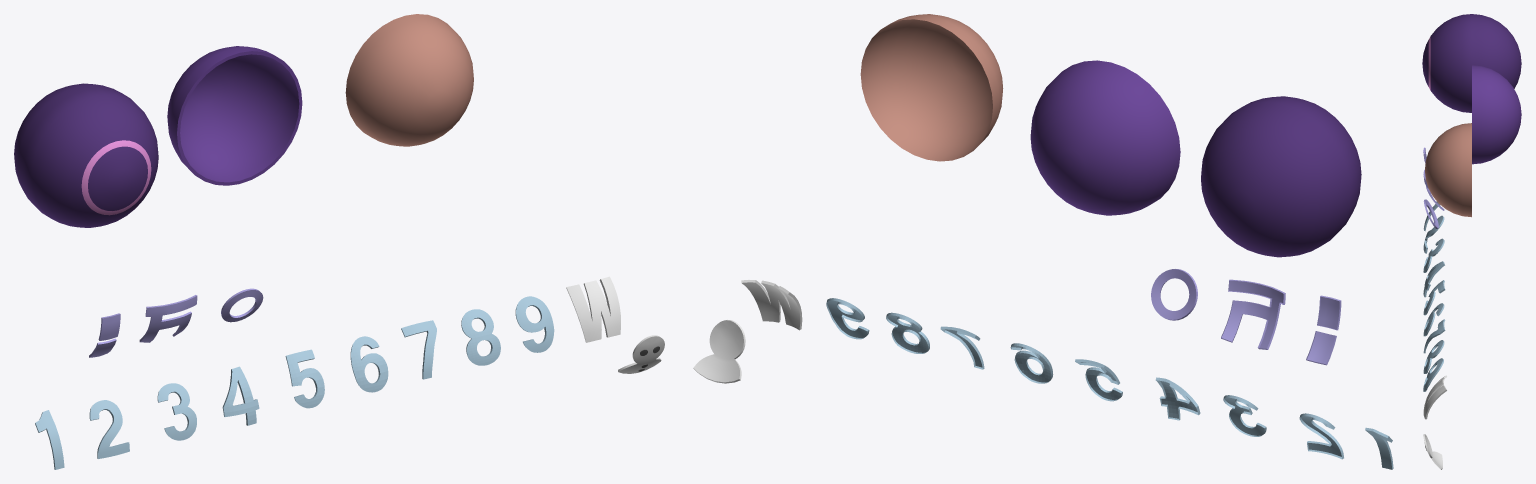
The model's file is MaJiang.fbx.
3 renders of one model, left to right at view 1: azimuth 30°, elevation 25°; view 2: azimuth 150°, elevation 25°; view 3: azimuth 270°, elevation 25°, orthographic. The views are drawn at different scales.
Parts seen in each view (by area): view 1: cover, back, inner, charactor_w, number_8, number_6, number_9, pattern_man, number_5, number_4, number_2, number_3 (+5 smaller); view 2: cover, back, inner, pattern_man, pattern_snowman, charactor_w, pattern_suo, pattern_pin, number_8, number_9, number_6, number_4 (+3 smaller); view 3: cover, back, inner, charactor_w, pattern_snowman, number_9, number_8, number_4, number_6, number_5, number_3, number_2 (+2 smaller).
Part boxes in pixels (left/top/right/bottom): cover: left=14, top=83, right=158, bottom=227; back: left=167, top=46, right=302, bottom=185; inner: left=345, top=14, right=473, bottom=146; charactor_w: left=566, top=276, right=620, bottom=342; number_8: left=461, top=309, right=500, bottom=365; number_6: left=350, top=336, right=388, bottom=392; number_9: left=515, top=296, right=554, bottom=352; pattern_man: left=139, top=295, right=197, bottom=342; number_5: left=285, top=349, right=324, bottom=408; number_4: left=222, top=366, right=259, bottom=425; number_2: left=89, top=400, right=129, bottom=458; number_3: left=157, top=383, right=196, bottom=440; cover: left=1201, top=96, right=1361, bottom=257; back: left=1030, top=60, right=1180, bottom=215; inner: left=860, top=14, right=1003, bottom=161; pattern_man: left=1221, top=279, right=1285, bottom=349; pattern_snowman: left=693, top=320, right=745, bottom=383; charactor_w: left=741, top=280, right=802, bottom=330; pattern_suo: left=1306, top=295, right=1341, bottom=365; pattern_pin: left=1151, top=269, right=1197, bottom=320; number_8: left=886, top=312, right=929, bottom=353; number_9: left=826, top=298, right=869, bottom=339; number_6: left=1010, top=343, right=1053, bottom=383; number_4: left=1155, top=377, right=1200, bottom=420; cover: left=1422, top=14, right=1521, bottom=112; back: left=1472, top=65, right=1521, bottom=164; inner: left=1425, top=123, right=1471, bottom=217; charactor_w: left=1423, top=375, right=1446, bottom=419; pattern_snowman: left=1423, top=434, right=1442, bottom=469; number_9: left=1423, top=358, right=1443, bottom=391; number_8: left=1423, top=340, right=1444, bottom=373; number_4: left=1423, top=261, right=1444, bottom=297; number_6: left=1423, top=303, right=1444, bottom=336; number_5: left=1423, top=280, right=1445, bottom=315; number_3: left=1423, top=238, right=1444, bottom=272; number_2: left=1423, top=215, right=1444, bottom=253.
Size of the model in its own units: 39.88 by 24.13 by 8.
